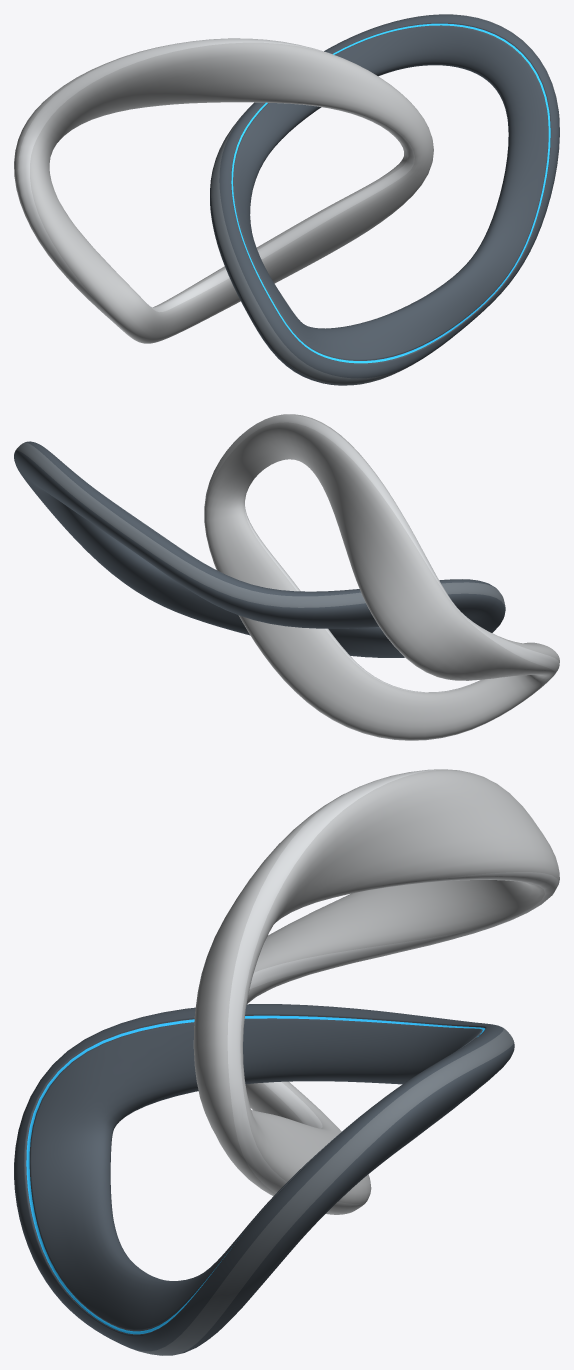
The model's file is infinity.glb.
3 renders of one model, top to bottom at view 1: azimuth 30°, elevation 25°; view 2: azimuth 150°, elevation 25°; view 3: azimuth 270°, elevation 25°, orthographic. The views are drawn at different scales.
Parts seen in each view (by area): view 1: Undertow - smoked chrome, Crest - forged titanium; view 2: Crest - forged titanium, Undertow - smoked chrome; view 3: Undertow - smoked chrome, Crest - forged titanium.
Part boxes in pixels (bbox=[...]): Undertow - smoked chrome: bbox=[210, 14, 559, 385]; Crest - forged titanium: bbox=[14, 38, 433, 343]; Crest - forged titanium: bbox=[204, 414, 559, 740]; Undertow - smoked chrome: bbox=[14, 441, 505, 657]; Undertow - smoked chrome: bbox=[14, 1004, 514, 1355]; Crest - forged titanium: bbox=[193, 769, 559, 1214].
Size of the model in its own units: 5.83 by 3.22 by 3.57.
